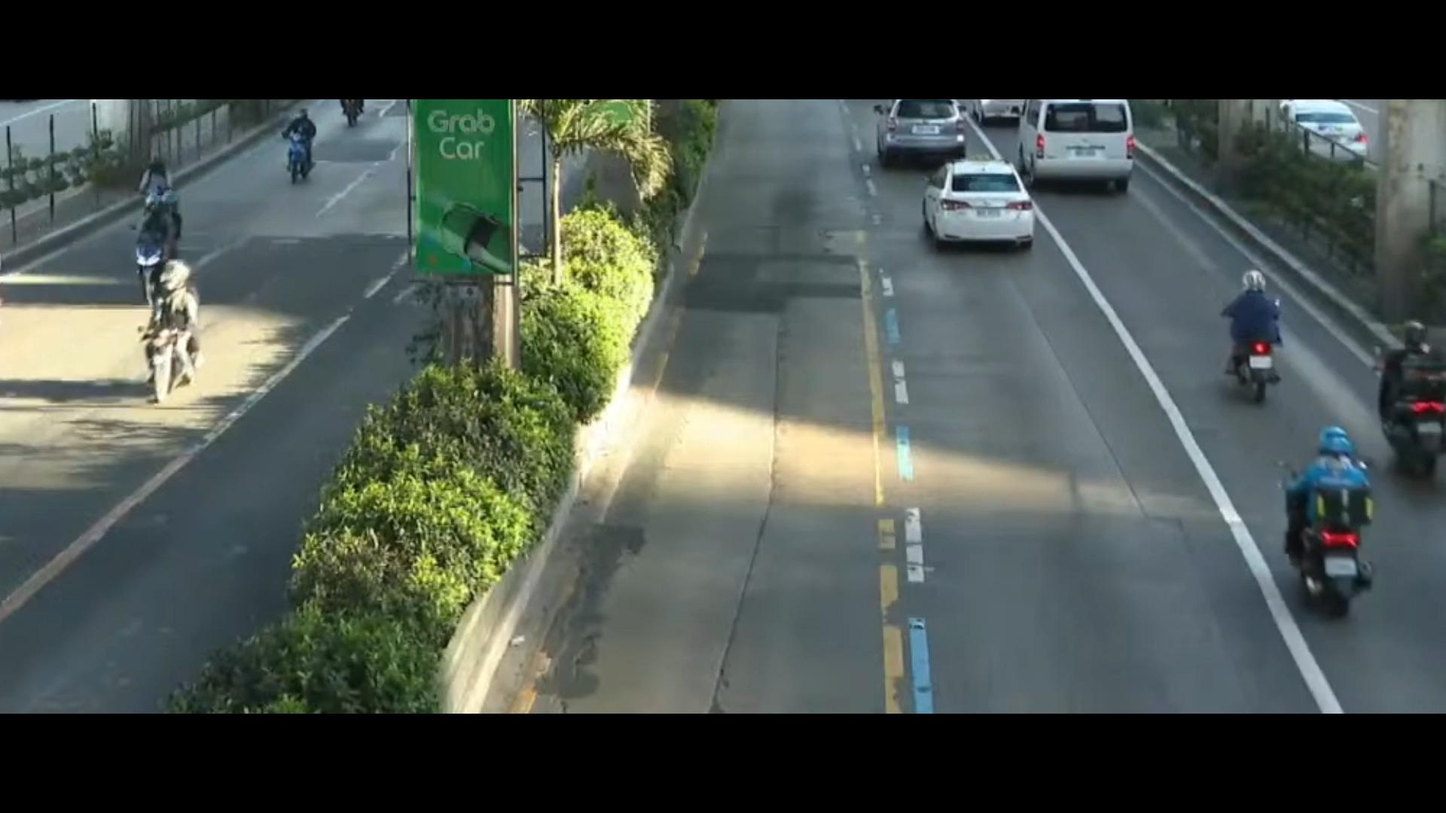Motorcycle: (1251, 432, 1373, 633), (1206, 251, 1316, 420), (123, 259, 234, 424), (1371, 297, 1446, 477), (117, 161, 201, 300), (248, 108, 327, 222)
SUV: (864, 99, 969, 161)
Sedan: (913, 149, 1042, 268)
Van: (1007, 98, 1148, 201)
